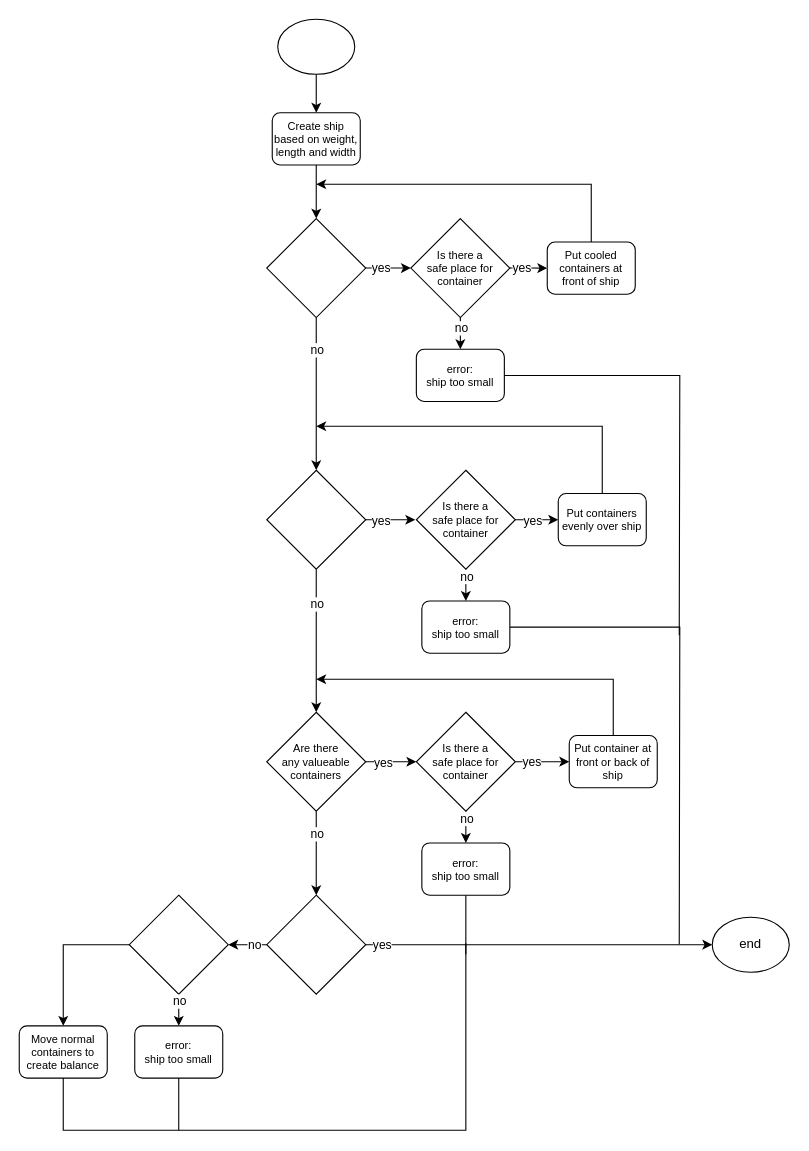
The diagram is 809 pixels wide and 1151 high, and some of its shapes have lost their labels. Each missing label, with the box of its shape:
Are there any cooled containers: (266, 217, 366, 318)
Are there any normal containers: (266, 469, 366, 569)
Can ship go in balance when moving normal containers: (128, 894, 228, 994)
Is ship in balance: (266, 894, 366, 994)
Start: (277, 18, 355, 74)
